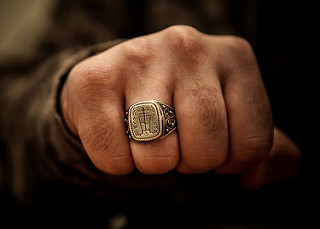fist: (70, 41, 291, 195)
